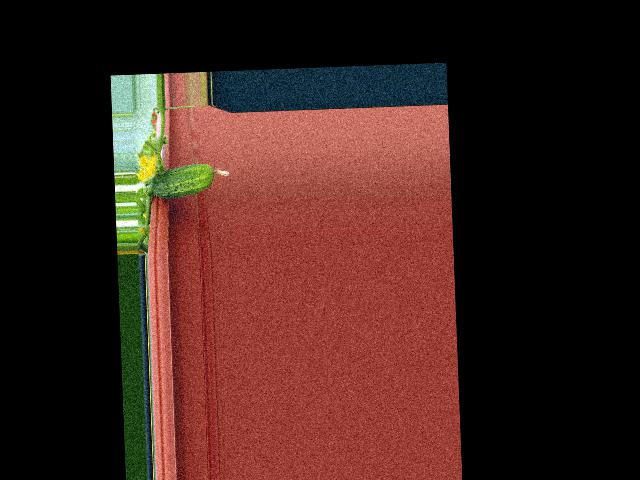cucumber: (150, 162, 230, 198)
